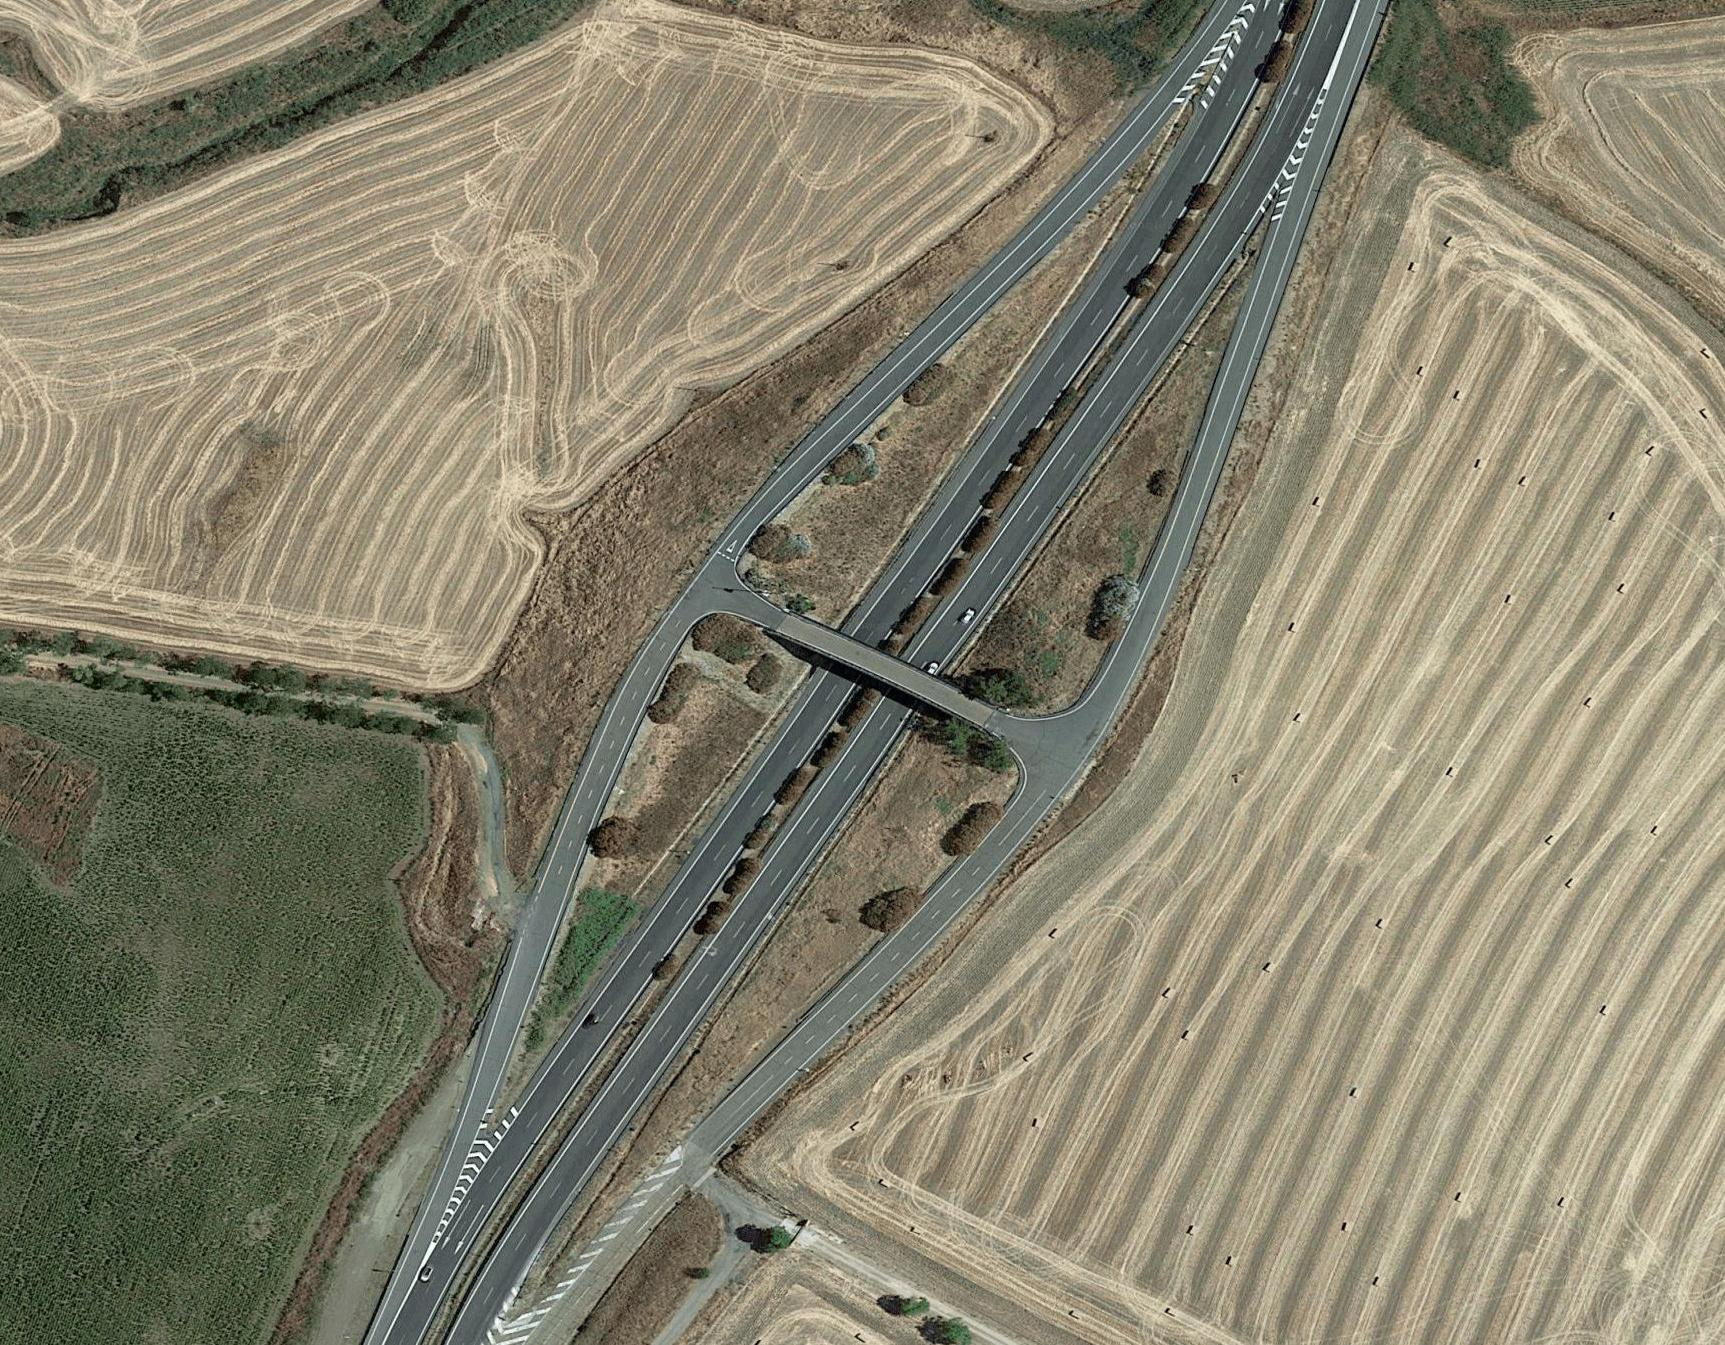bridge: (801, 598, 980, 740)
small-vehicle: (961, 607, 975, 626)
